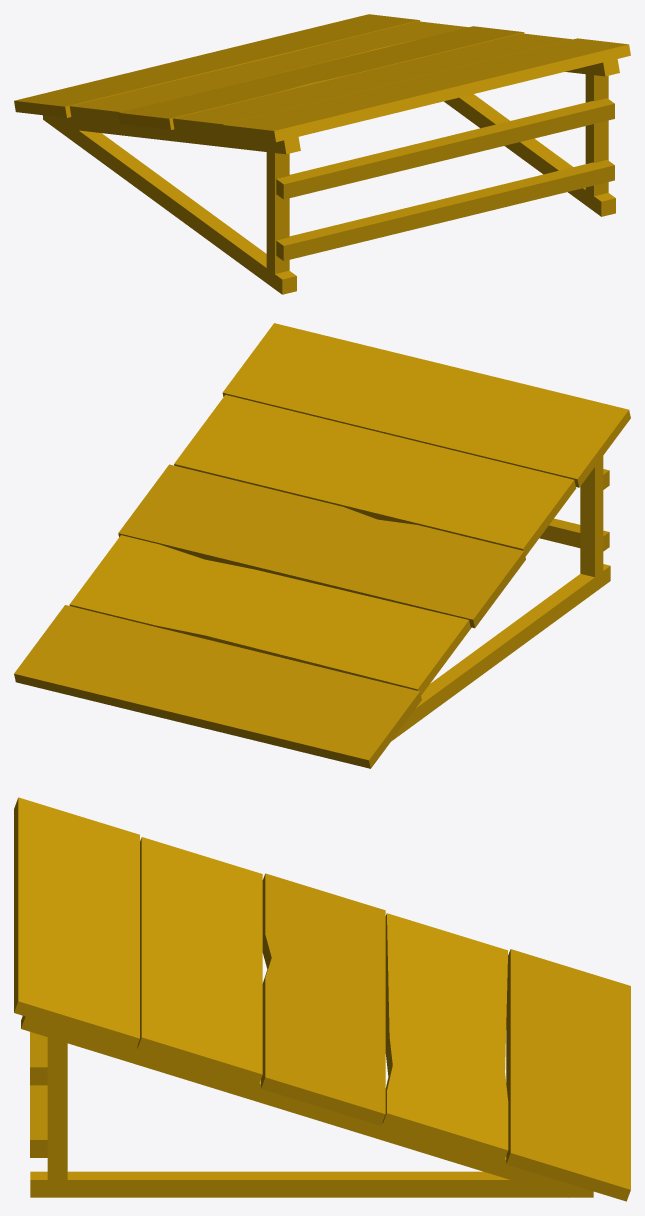
Rendered from wooden_ramp.fbx.
The picture shows the model from 3 angles, top to bottom: view 1: azimuth 30°, elevation 25°; view 2: azimuth 150°, elevation 25°; view 3: azimuth 270°, elevation 25°; orthographic projection. The views are drawn at different scales.
Visible parts, largest first — view 1: wooden_ramp; view 2: wooden_ramp; view 3: wooden_ramp.
Boxes of the visible parts, x1=… form: wooden_ramp: x1=14, y1=14, x2=630, y2=294; wooden_ramp: x1=14, y1=323, x2=630, y2=768; wooden_ramp: x1=14, y1=797, x2=630, y2=1201.
Bounding box in the file's own units: 75.7 × 34.83 × 96.79.
